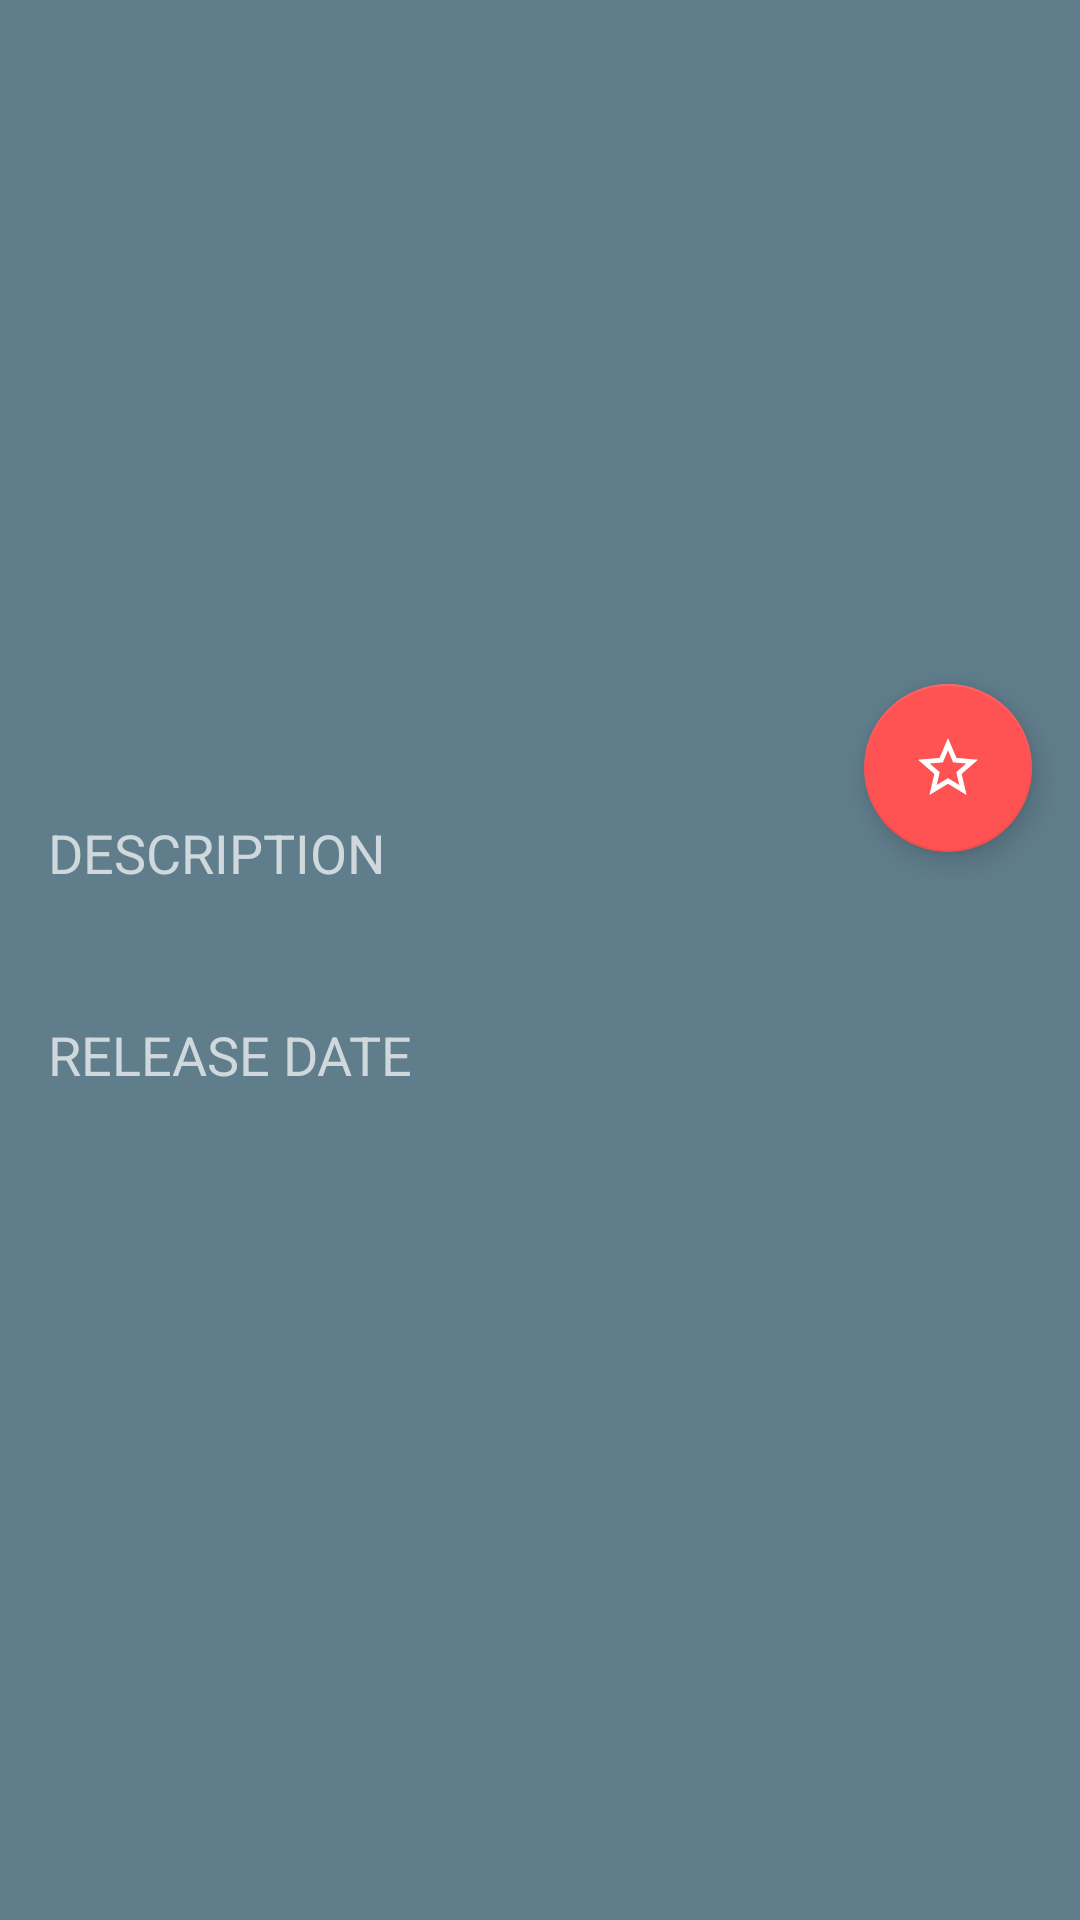

Point at icon controls on the screen. Image size 1080*1920, points as (x,y).
star: (948,768)
